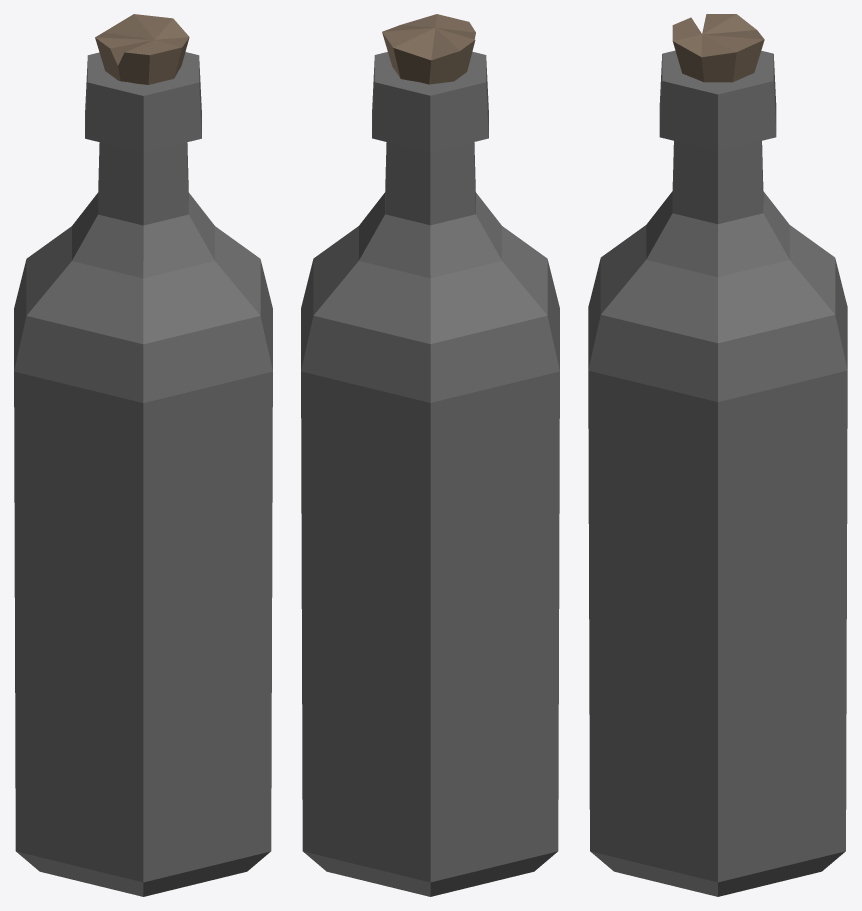
The model's file is SM_Gen_Prop_Bottle_03.glb.
The picture shows the model from 3 angles, left to right: view 1: azimuth 30°, elevation 25°; view 2: azimuth 150°, elevation 25°; view 3: azimuth 270°, elevation 25°; orthographic projection.
Visible parts, largest first — view 1: SM_Gen_Prop_Bottle_03; view 2: SM_Gen_Prop_Bottle_03; view 3: SM_Gen_Prop_Bottle_03.
Part boxes in pixels (x1=…): SM_Gen_Prop_Bottle_03: x1=14, y1=14, x2=272, y2=896; SM_Gen_Prop_Bottle_03: x1=301, y1=14, x2=559, y2=896; SM_Gen_Prop_Bottle_03: x1=588, y1=14, x2=847, y2=896.
Size of the model in its own units: 0.1483 by 0.4444 by 0.1284.
1 material, 1 textured.
